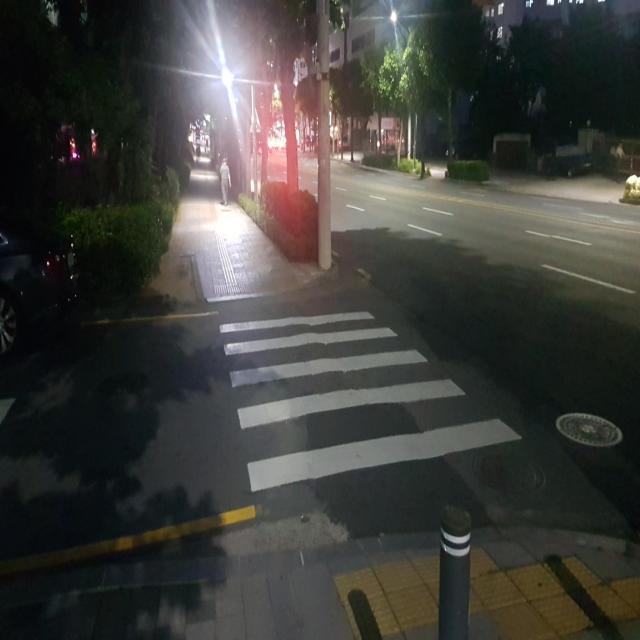횡단보도: (218, 310, 523, 494)
